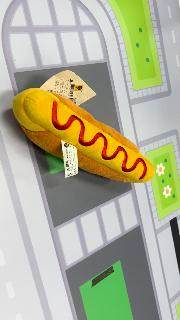hotdog: (12, 88, 156, 184)
